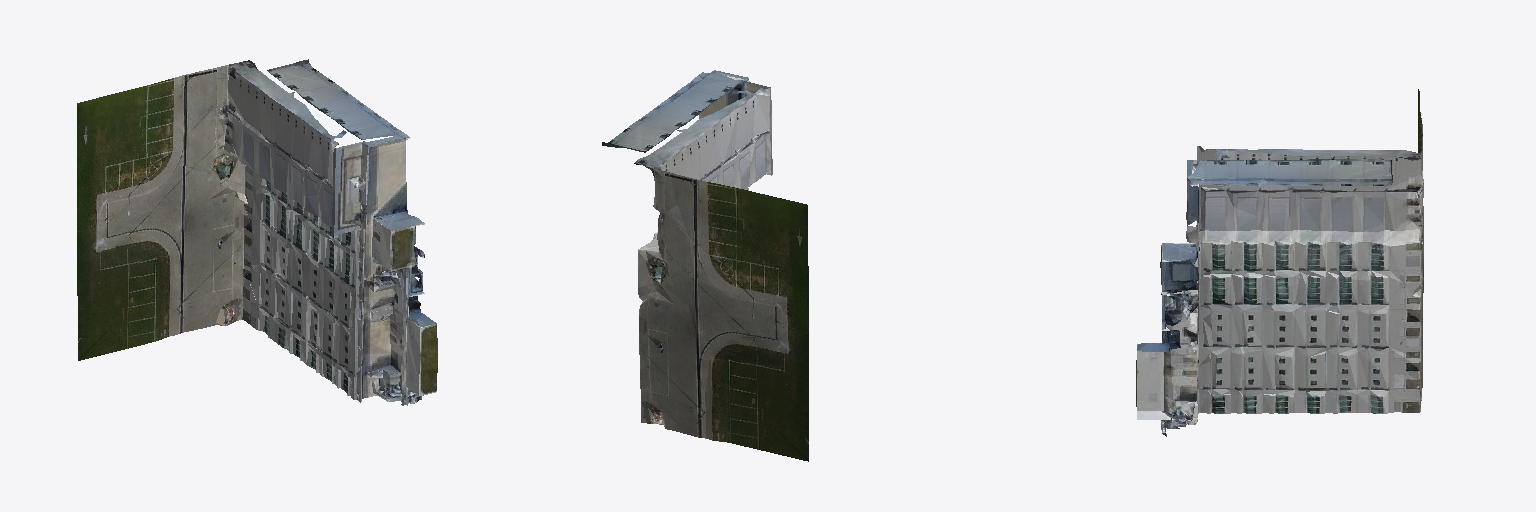
3 renders of one model, left to right at view 1: azimuth 30°, elevation 25°; view 2: azimuth 150°, elevation 25°; view 3: azimuth 270°, elevation 25°, orthographic.
Parts seen in each view (by area): view 1: obj_0; view 2: obj_0; view 3: obj_0.
Boxes of the visible parts, box(x1,y1,x2,y2) form: obj_0: box(77, 59, 437, 405); obj_0: box(602, 70, 808, 461); obj_0: box(1136, 89, 1423, 436).
Bounding box in the file's own units: 40.15 × 45.06 × 45.69.
Materials: 1 (1 with a texture image).